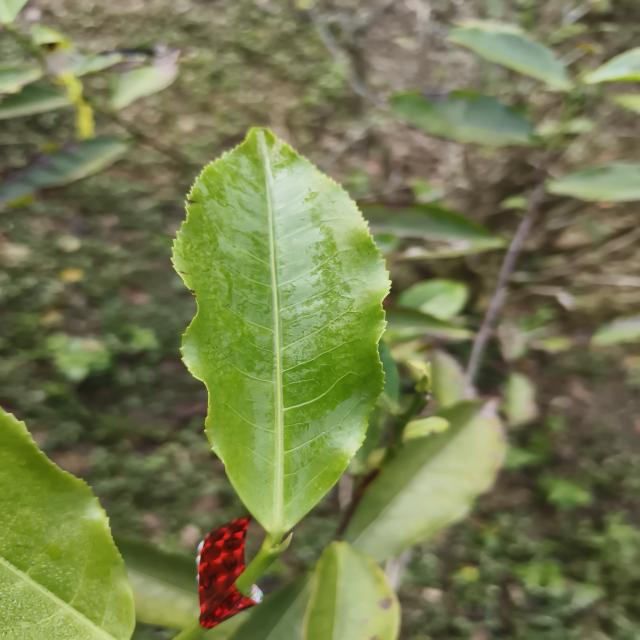Leaf: (173, 128, 390, 549), (0, 408, 135, 640), (344, 401, 506, 562), (304, 541, 400, 640), (0, 137, 129, 206), (447, 22, 571, 90), (362, 203, 505, 259), (389, 91, 533, 146), (546, 163, 640, 202), (111, 54, 177, 109), (396, 279, 468, 320)
